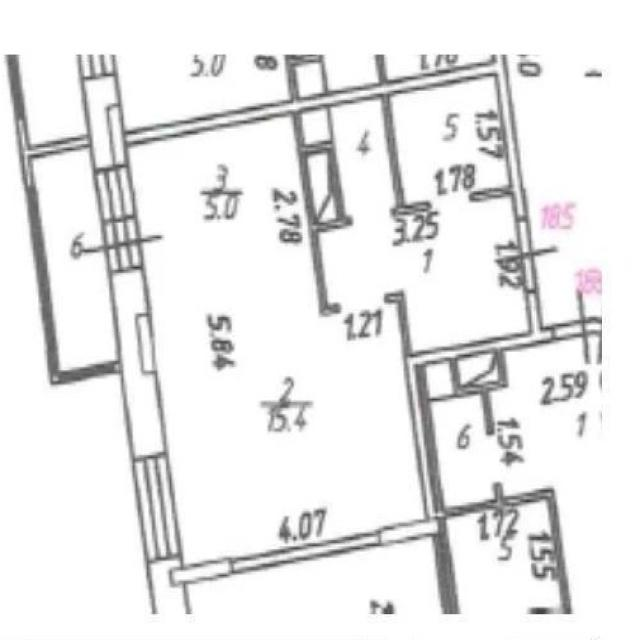Corridors: (321, 196, 530, 352), (491, 336, 603, 615), (35, 149, 118, 370), (393, 77, 510, 203), (449, 500, 561, 616), (332, 98, 393, 212), (432, 395, 494, 506), (19, 51, 87, 142), (385, 53, 494, 79), (324, 52, 379, 89)
Doors: (231, 531, 381, 574), (78, 214, 165, 272), (493, 219, 561, 290), (552, 285, 604, 367), (340, 290, 382, 312), (485, 435, 503, 483), (431, 193, 470, 210), (354, 209, 389, 225)
LBwalls: (109, 265, 168, 460), (81, 72, 130, 170), (146, 557, 191, 615)
Offices: (128, 116, 424, 566), (188, 536, 439, 615), (116, 52, 289, 128)
Walls: (126, 52, 529, 319), (379, 290, 574, 616), (5, 52, 122, 385), (168, 558, 233, 586)
Windows: (131, 454, 181, 565), (93, 165, 137, 221), (78, 54, 117, 80)
